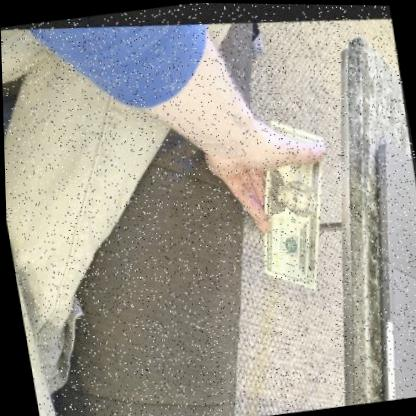twenty-front: (261, 113, 321, 285)
